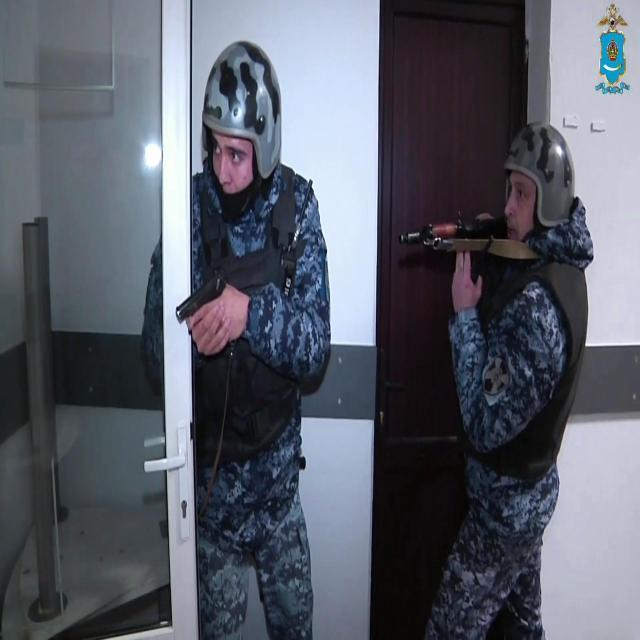pistol: (397, 198, 514, 296), (175, 265, 228, 327)
